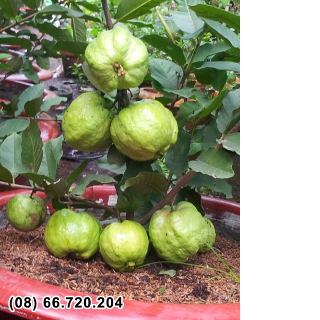oi: (107, 95, 180, 165), (143, 199, 213, 266), (82, 28, 150, 93), (61, 89, 116, 155), (40, 206, 104, 262), (93, 214, 148, 274)
